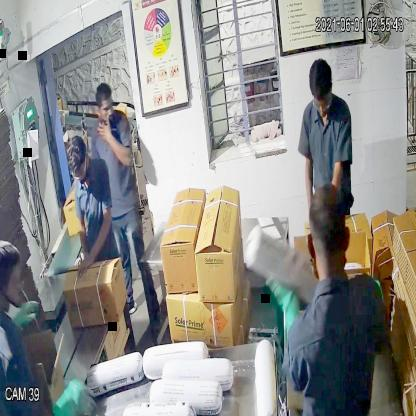goggles: (311, 88, 334, 113), (68, 162, 91, 184)
